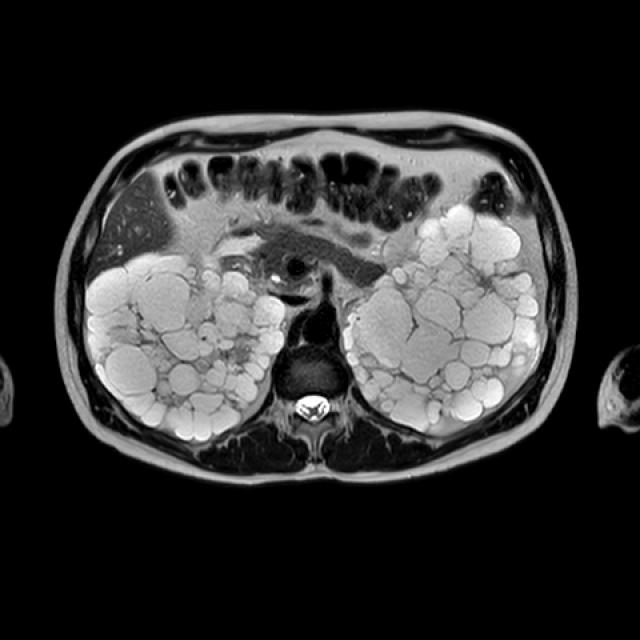sag: (82, 248, 289, 443)
sol: (338, 201, 543, 435)
